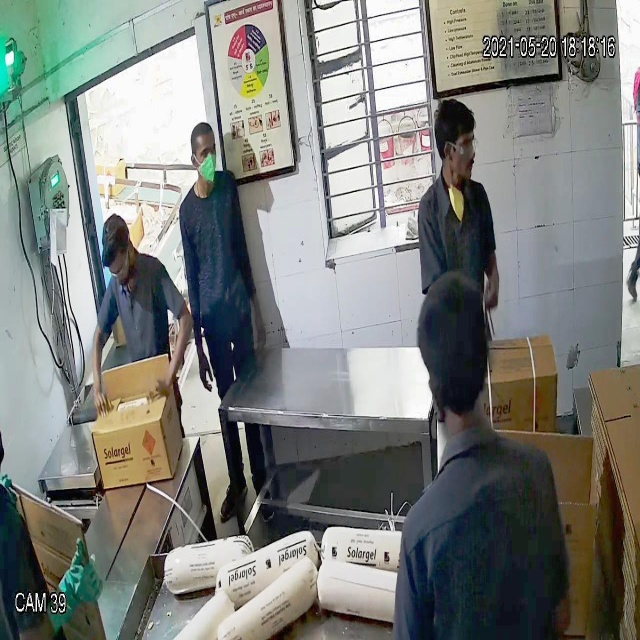Gafas: (438, 132, 477, 158), (101, 253, 133, 280)
Sin_gafas: (187, 140, 227, 167)
